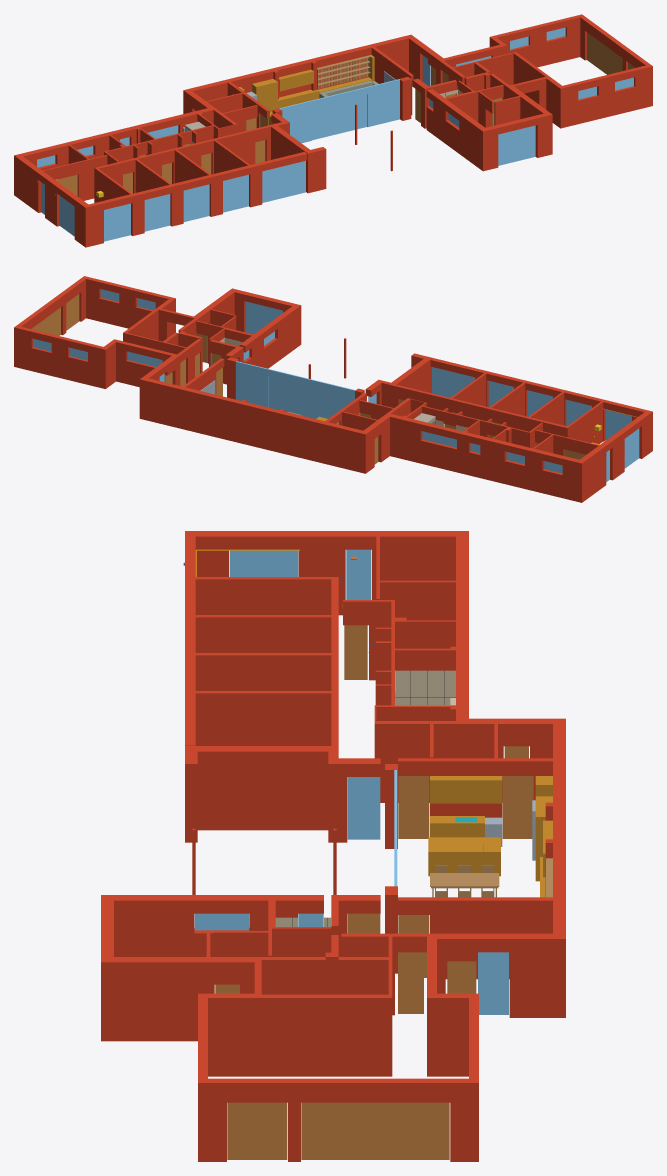
Rendered from ground_floor.glb.
The picture shows the model from 3 angles, top to bottom: view 1: azimuth 30°, elevation 25°; view 2: azimuth 150°, elevation 25°; view 3: azimuth 270°, elevation 25°; orthographic projection. The views are drawn at different scales.
Parts seen in each view (by area): view 1: masonry__W-002__, masonry__W-005__, masonry__W-029__, masonry__W-013__, masonry__W-030__, glazing__W-023__, masonry__W-054__, masonry__W-026__, masonry__W-027__, glazing__WIN-OP28__, glazing__WIN-OP21__, masonry__W-001__ (+37 smaller); view 2: masonry__W-029__, masonry__W-026__, masonry__W-027__, masonry__W-005__, masonry__W-030__, glazing__W-023__, masonry__W-013__, masonry__W-002__, masonry__W-054__, glazing__WIN-OP28__, masonry__W-025__, masonry__W-067__ (+32 smaller); view 3: masonry__W-049__, masonry__W-066__, masonry__W-067__, masonry__W-063__, masonry__W-030__, door__D-OP50__, masonry__W-054__, masonry__W-044__, masonry__W-060__, masonry__W-056__, masonry__W-031__, masonry__W-034__ (+38 smaller).
Boxes of the visible parts, left/top/right/bottom form: masonry__W-002__: left=89, top=152, right=307, bottom=245; masonry__W-005__: left=558, top=65, right=648, bottom=128; masonry__W-029__: left=183, top=34, right=413, bottom=113; masonry__W-013__: left=94, top=125, right=270, bottom=202; masonry__W-030__: left=17, top=156, right=91, bottom=247; glazing__W-023__: left=279, top=79, right=399, bottom=143; masonry__W-054__: left=426, top=89, right=488, bottom=171; masonry__W-026__: left=14, top=107, right=216, bottom=197; masonry__W-027__: left=489, top=15, right=580, bottom=67; glazing__WIN-OP28__: left=312, top=94, right=367, bottom=140; glazing__WIN-OP21__: left=262, top=161, right=305, bottom=202; masonry__W-001__: left=485, top=113, right=546, bottom=169; masonry__W-029__: left=139, top=377, right=368, bottom=473; masonry__W-026__: left=385, top=413, right=585, bottom=502; masonry__W-027__: left=18, top=326, right=107, bottom=388; masonry__W-005__: left=86, top=277, right=175, bottom=333; masonry__W-030__: left=580, top=410, right=652, bottom=500; glazing__W-023__: left=236, top=361, right=355, bottom=418; masonry__W-013__: left=394, top=384, right=569, bottom=437; masonry__W-002__: left=430, top=358, right=646, bottom=441; masonry__W-054__: left=239, top=304, right=301, bottom=368; glazing__WIN-OP28__: left=268, top=376, right=322, bottom=418; masonry__W-025__: left=112, top=339, right=173, bottom=386; masonry__W-067__: left=14, top=276, right=88, bottom=367; masonry__W-049__: left=185, top=746, right=338, bottom=830; masonry__W-066__: left=261, top=994, right=392, bottom=1076; masonry__W-067__: left=198, top=1078, right=478, bottom=1161; masonry__W-063__: left=101, top=957, right=261, bottom=1041; masonry__W-030__: left=185, top=531, right=455, bottom=615; door__D-OP50__: left=301, top=1102, right=449, bottom=1159; masonry__W-054__: left=101, top=895, right=323, bottom=956; masonry__W-044__: left=195, top=691, right=331, bottom=745; masonry__W-060__: left=427, top=933, right=552, bottom=1017; masonry__W-056__: left=398, top=897, right=552, bottom=979; masonry__W-031__: left=195, top=577, right=331, bottom=614; masonry__W-034__: left=195, top=615, right=331, bottom=652.
Bounding box in the file's own units: 45.1 × 3.05 × 16.05.
